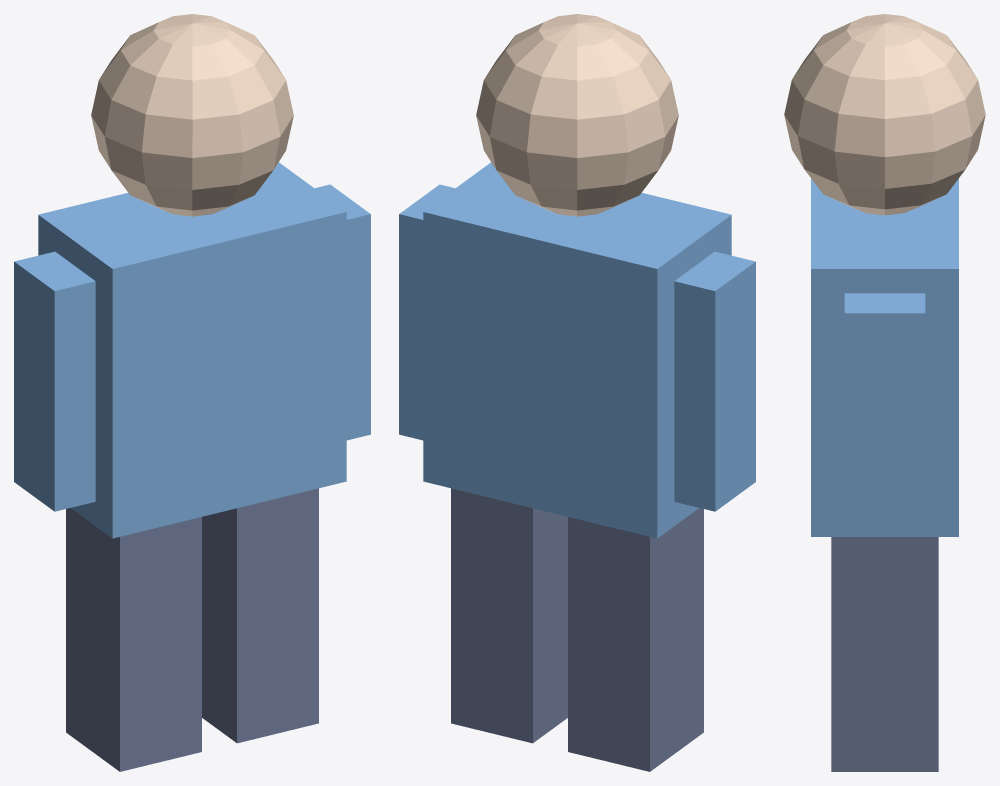
File: citizen_b.glb
The picture shows the model from 3 angles, left to right: view 1: azimuth 30°, elevation 25°; view 2: azimuth 150°, elevation 25°; view 3: azimuth 270°, elevation 25°; orthographic projection.
Parts seen in each view (by area): view 1: box, box.001, sphere, box.003, box.002, box.004; view 2: box, box.001, sphere, box.003, box.002, box.004; view 3: sphere, box, box.003, box.004.
Part boxes in pixels (<box>): box: <box>38,162,346,538</box>; box.001: <box>66,508,201,771</box>; sphere: <box>91,14,293,216</box>; box.003: <box>202,488,318,743</box>; box.002: <box>14,251,95,511</box>; box.004: <box>315,184,370,440</box>; box: <box>423,162,731,538</box>; box.001: <box>568,508,703,771</box>; sphere: <box>476,14,678,216</box>; box.003: <box>451,488,567,743</box>; box.002: <box>674,251,755,511</box>; box.004: <box>399,184,454,440</box>; sphere: <box>784,14,985,215</box>; box: <box>811,178,958,536</box>; box.003: <box>831,537,938,771</box>; box.004: <box>844,293,925,532</box>.
Bounding box in the file's own units: 0.27 × 0.575 × 0.15.
